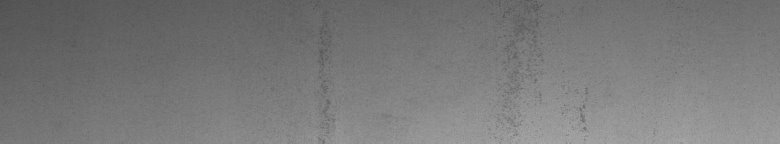ib: (503, 8, 589, 135)
